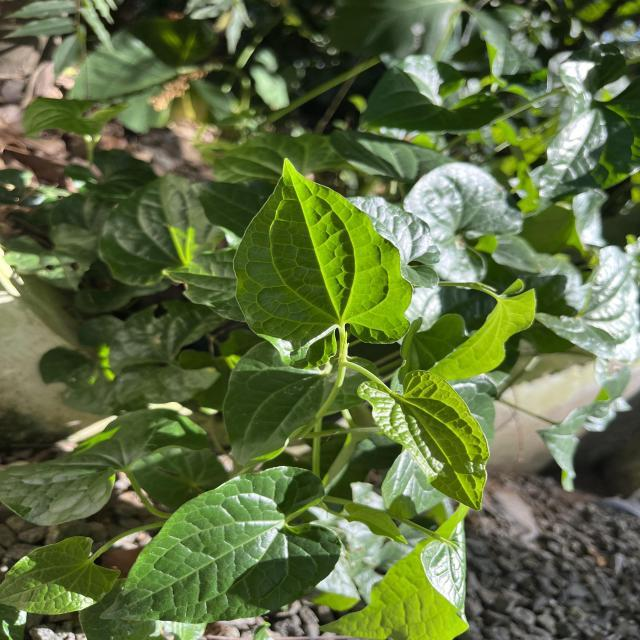Piper longum: (94, 462, 345, 628), (227, 154, 416, 372), (355, 363, 493, 518)
